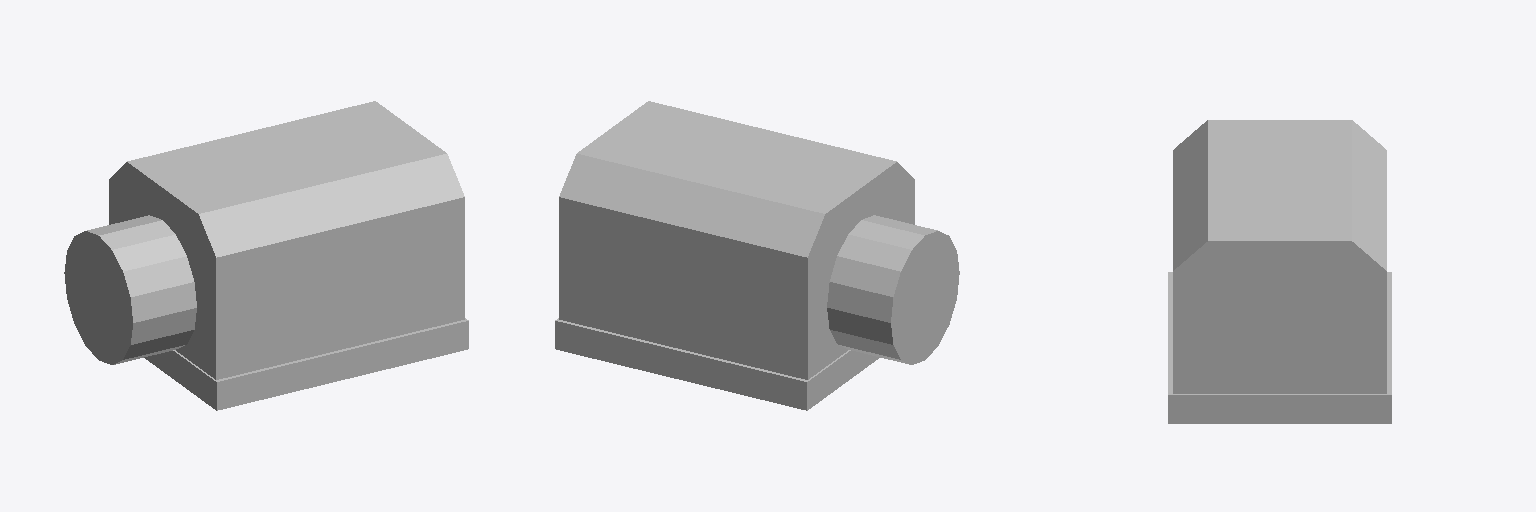
Rendered from MedicaOutMesh.obj.
3 views of the same model, side by side, from view 1: azimuth 30°, elevation 25°; view 2: azimuth 150°, elevation 25°; view 3: azimuth 270°, elevation 25° (orthographic).
Parts seen in each view (by area): view 1: Cube.022; view 2: Cube.022; view 3: Cube.022.
Boxes of the visible parts, x1,y1,x2,y2 form: Cube.022: [64, 101, 468, 410]; Cube.022: [555, 101, 959, 410]; Cube.022: [1168, 120, 1391, 423].
Size of the model in its own units: 5.9 by 3.26 by 3.63.